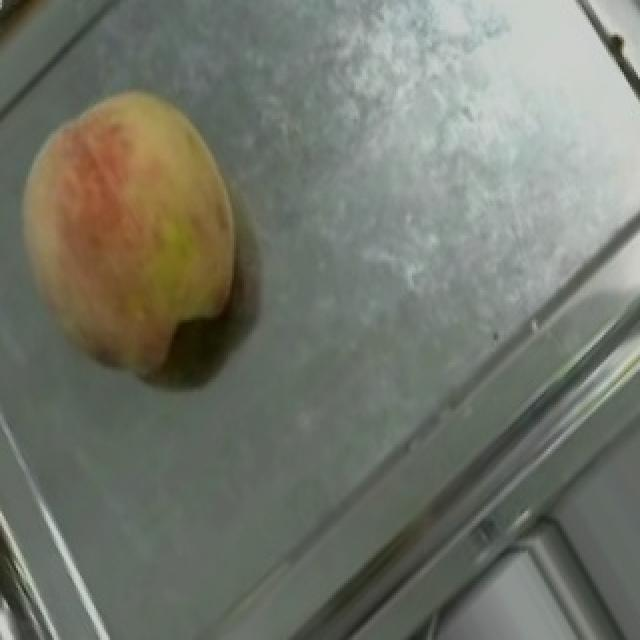Fruit: (0, 52, 286, 414)
